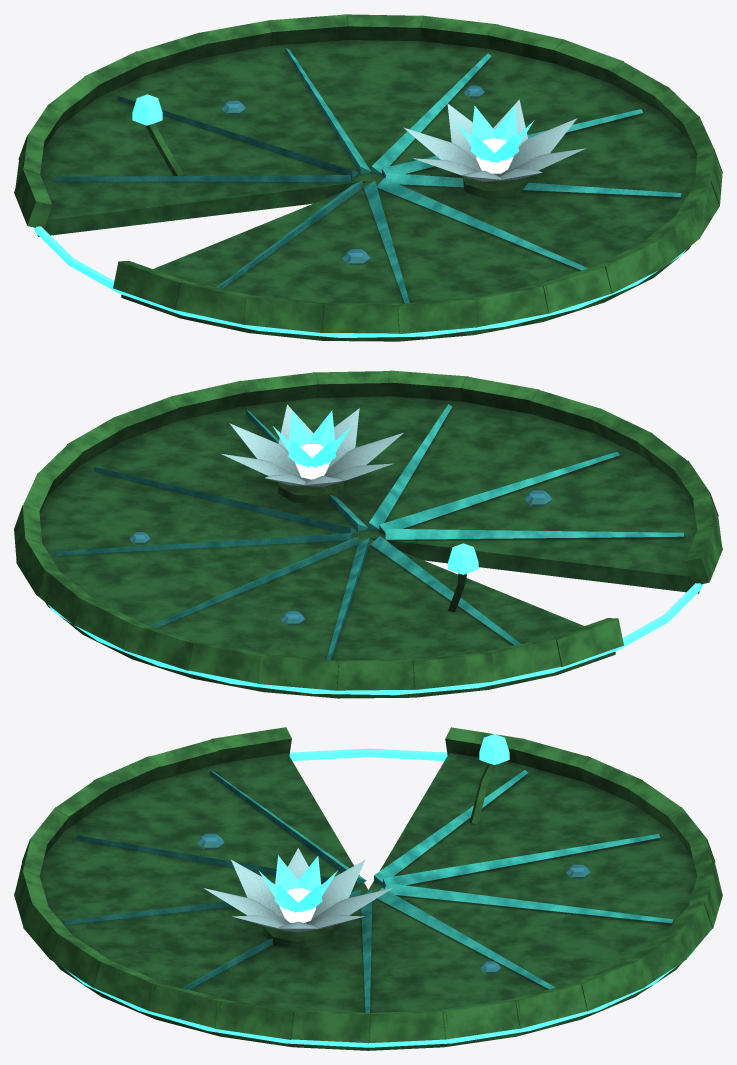
File: nenufar_espacial.fbx
The picture shows the model from 3 angles, top to bottom: view 1: azimuth 30°, elevation 25°; view 2: azimuth 150°, elevation 25°; view 3: azimuth 270°, elevation 25°; orthographic projection.
Parts seen in each view (by area): view 1: nenufar_espacial, nenufar_espacial_halo_neon, nenufar_espacial_petalos_neon, nenufar_espacial_agua, nenufar_espacial_neon, nenufar_espacial_blanco_luz; view 2: nenufar_espacial, nenufar_espacial_halo_neon, nenufar_espacial_petalos_neon, nenufar_espacial_agua, nenufar_espacial_neon, nenufar_espacial_blanco_luz; view 3: nenufar_espacial, nenufar_espacial_halo_neon, nenufar_espacial_petalos_neon, nenufar_espacial_agua, nenufar_espacial_neon, nenufar_espacial_blanco_luz.
Boxes of the visible parts, x1,y1,x2,y2 form: nenufar_espacial: [14, 14, 722, 341]; nenufar_espacial_halo_neon: [33, 226, 686, 337]; nenufar_espacial_petalos_neon: [455, 105, 534, 162]; nenufar_espacial_agua: [221, 85, 484, 265]; nenufar_espacial_neon: [132, 94, 162, 125]; nenufar_espacial_blanco_luz: [476, 138, 513, 173]; nenufar_espacial: [14, 370, 722, 698]; nenufar_espacial_halo_neon: [48, 583, 703, 695]; nenufar_espacial_petalos_neon: [273, 410, 351, 467]; nenufar_espacial_agua: [129, 490, 552, 625]; nenufar_espacial_neon: [448, 543, 478, 574]; nenufar_espacial_blanco_luz: [295, 443, 330, 479]; nenufar_espacial: [14, 727, 722, 1050]; nenufar_espacial_halo_neon: [65, 748, 694, 1047]; nenufar_espacial_petalos_neon: [258, 855, 337, 912]; nenufar_espacial_agua: [197, 833, 590, 974]; nenufar_espacial_neon: [479, 734, 509, 764]; nenufar_espacial_blanco_luz: [279, 888, 315, 922].
Bounding box in the file's own units: 2 × 0.2994 × 2.03.
Materials: 3 (3 with a texture image).
